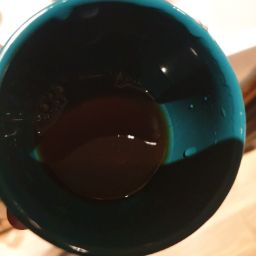Balsamic vinegar: (39, 75, 179, 206), (47, 81, 174, 191), (85, 106, 161, 185)
